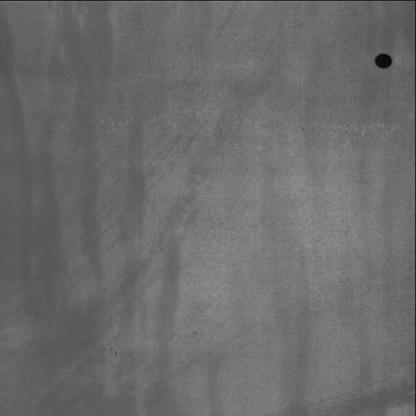punching_hole: (373, 48, 395, 71)
